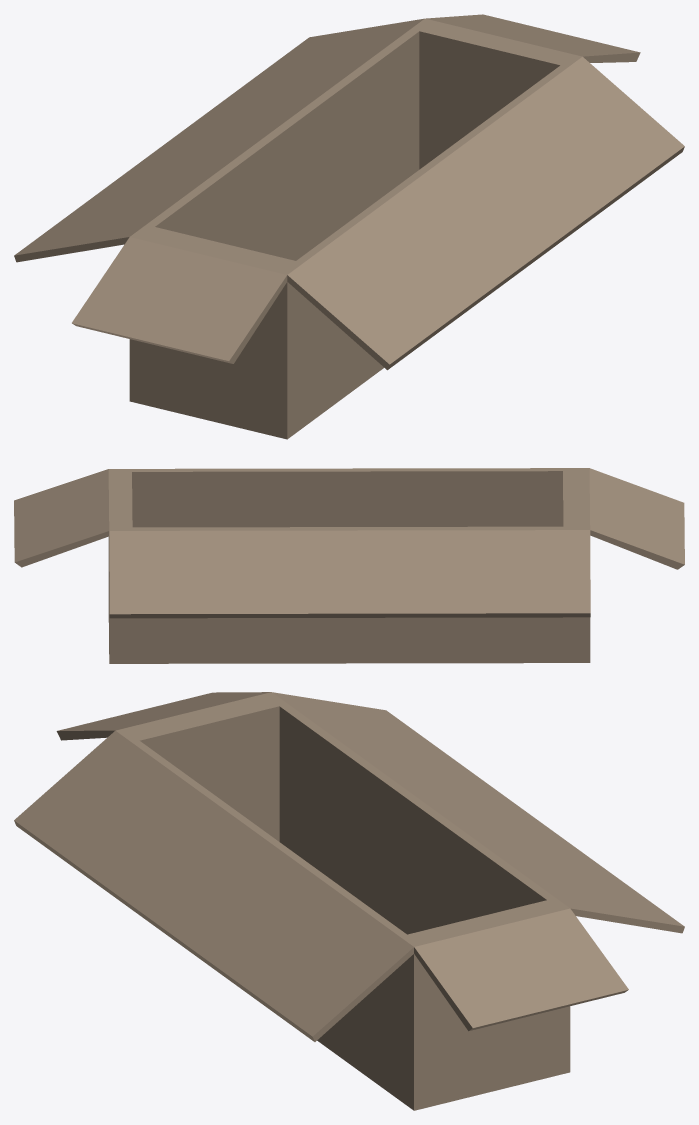
Rendered from Cardboard Box 2.fbx.
3 renders of one model, top to bottom at view 1: azimuth 30°, elevation 25°; view 2: azimuth 150°, elevation 25°; view 3: azimuth 270°, elevation 25°, orthographic. The views are drawn at different scales.
Visible parts, largest first — view 1: Cardboard_box_2; view 2: Cardboard_box_2; view 3: Cardboard_box_2.
Part boxes in pixels (box(x1,y1,x2,y2)): Cardboard_box_2: box(14, 14, 684, 439); Cardboard_box_2: box(14, 468, 684, 663); Cardboard_box_2: box(14, 692, 684, 1110).
Bounding box in the file's own units: 180 × 40.42 × 150.
